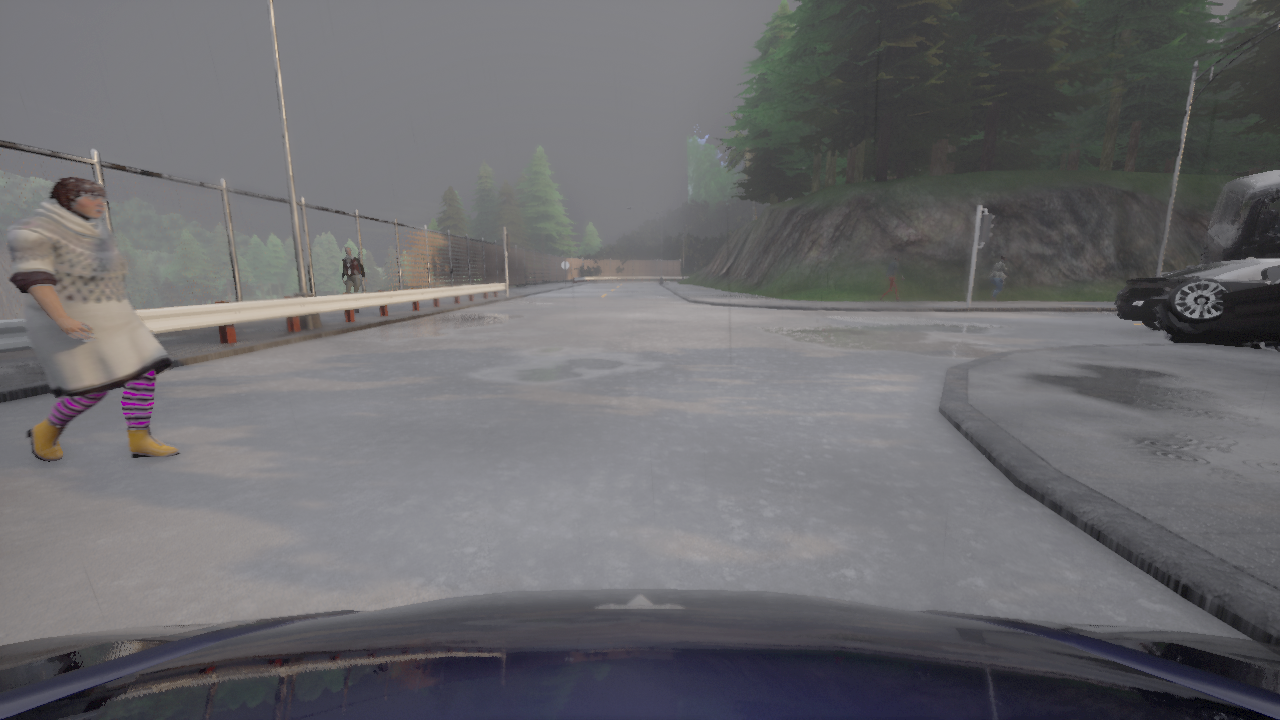cyclist: (0, 588, 1279, 719), (1118, 253, 1279, 331), (1154, 278, 1279, 352), (1199, 171, 1279, 265), (1161, 264, 1199, 276), (1113, 287, 1126, 306)
pedestrian: (8, 177, 180, 462), (341, 246, 367, 314), (879, 256, 903, 301), (989, 255, 1012, 301)
